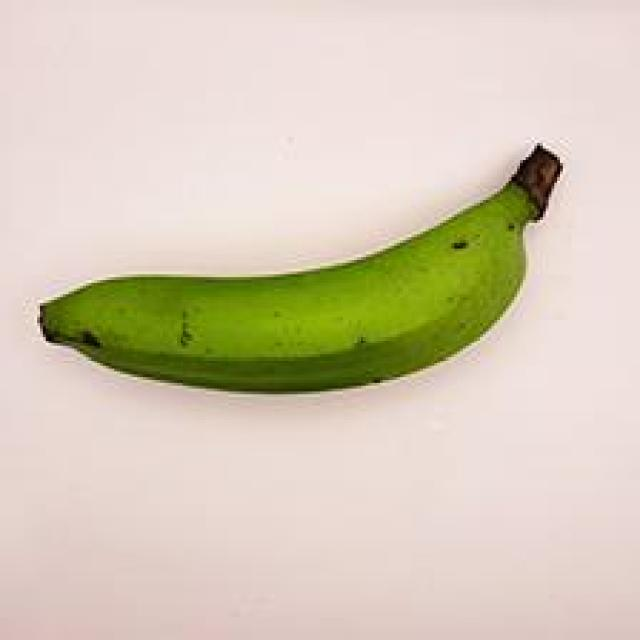Raw: (19, 130, 595, 414)
